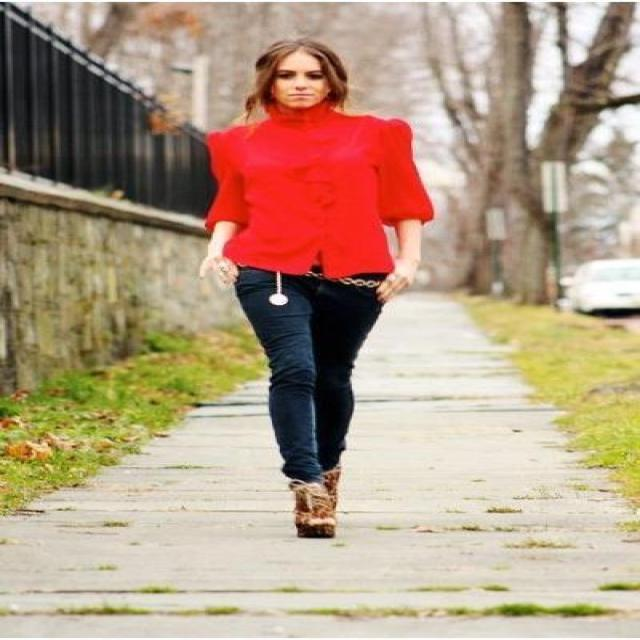pants: (234, 266, 387, 481)
shirt: (206, 102, 432, 286)
shoe: (283, 462, 346, 537)
